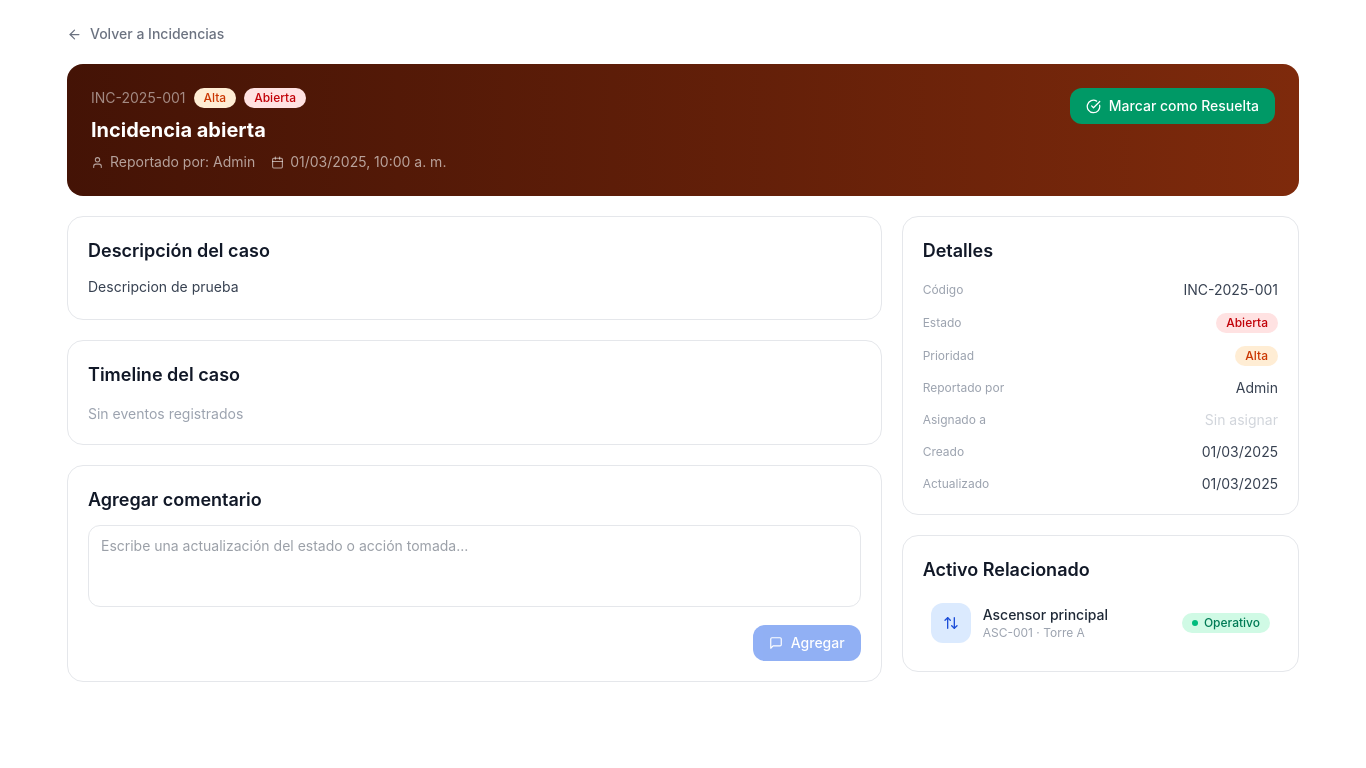
Scenario: IncidentDetail › muestra error cuando falla el cierre y no navega
Click the button "Marcar como Resuelta" at (1172, 106), box [1070,88,1275,124]
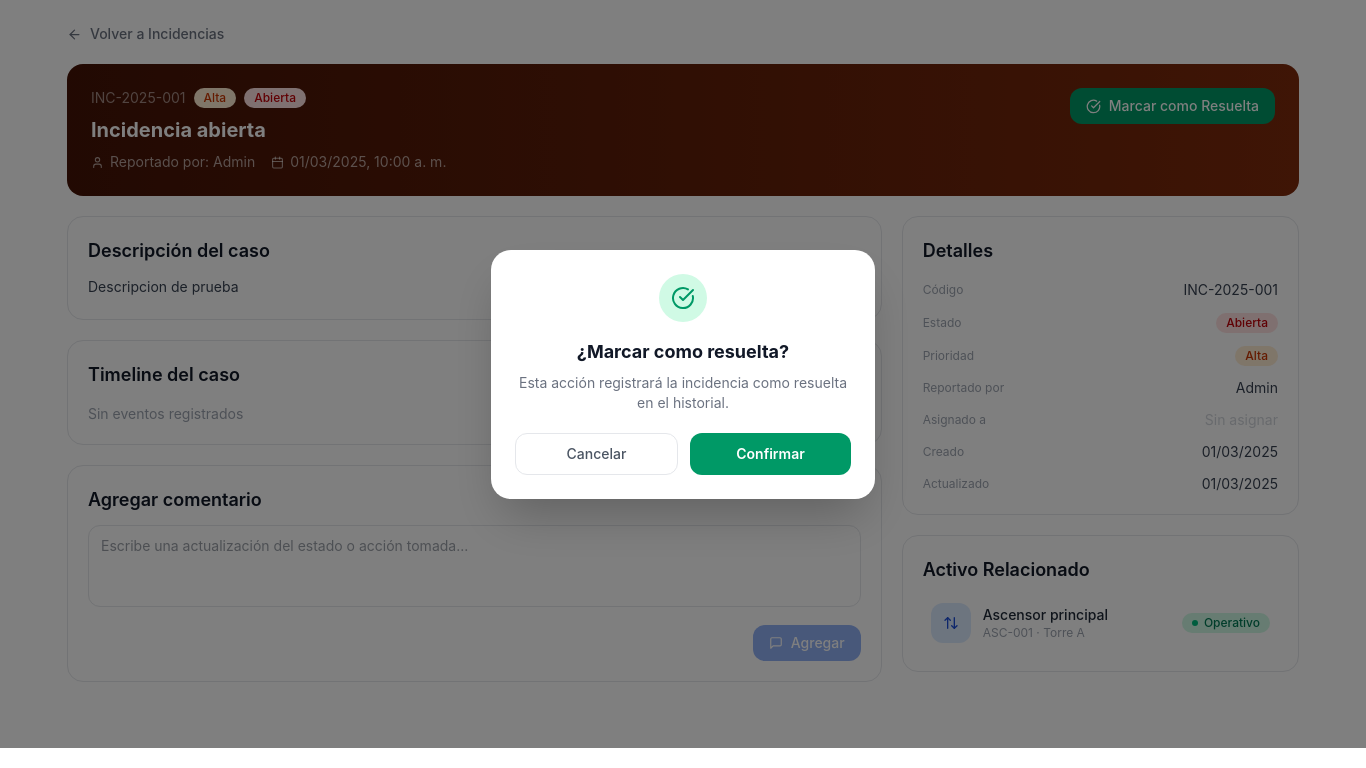
Click the button "Confirmar" at (770, 454), box [690,432,851,474]
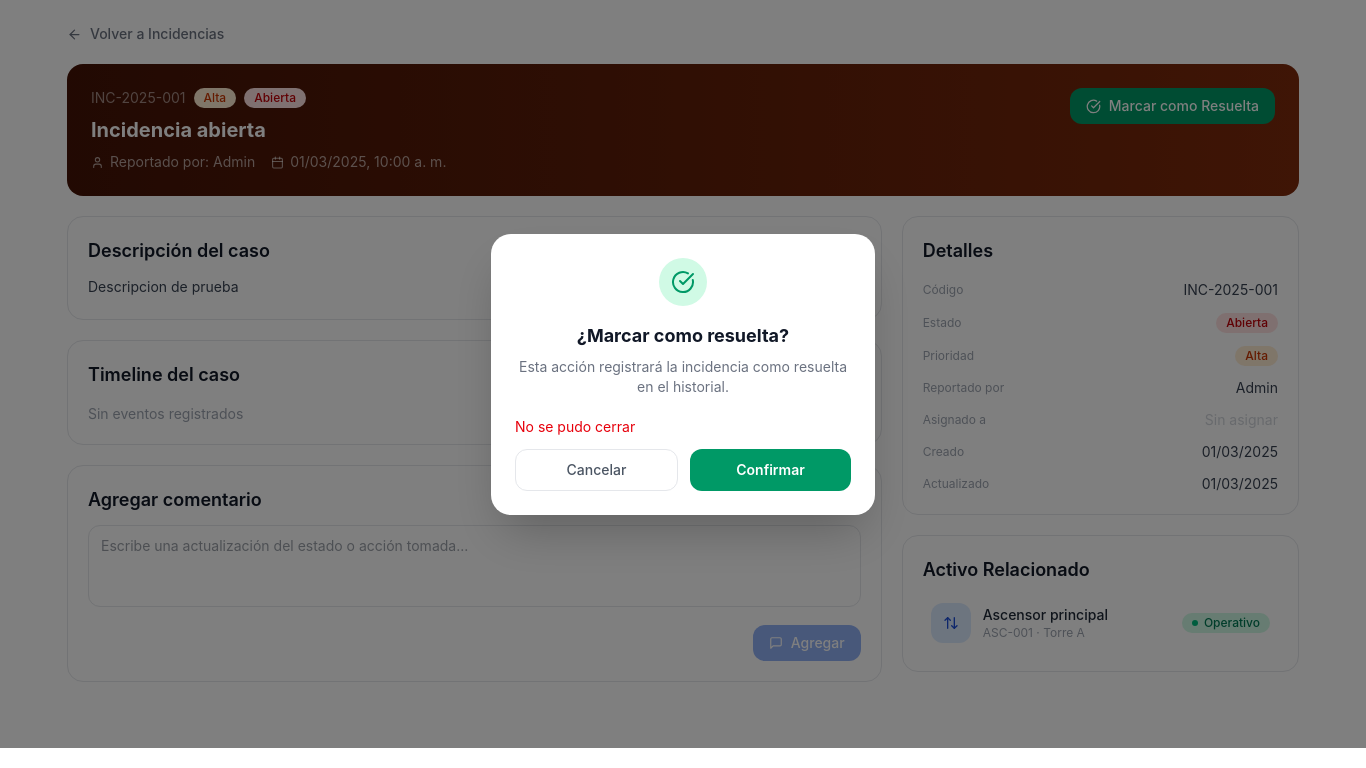
Expected: the message reads "No se pudo cerrar", [515,418,635,434]
